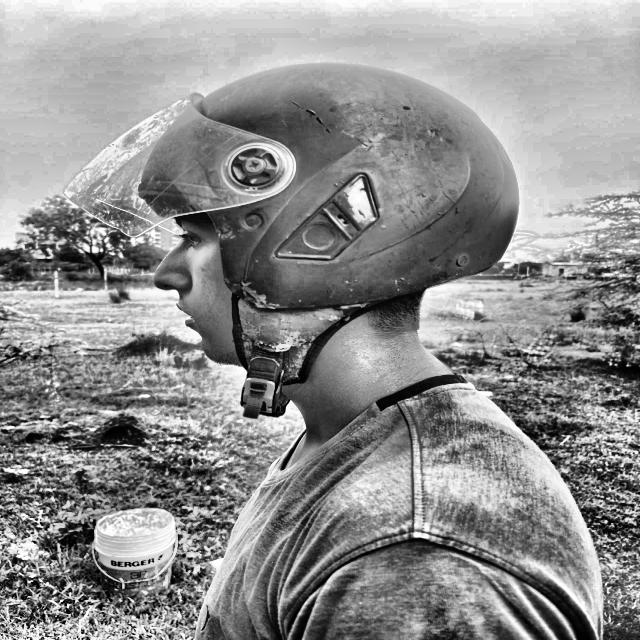Helmet: (64, 62, 550, 403)
